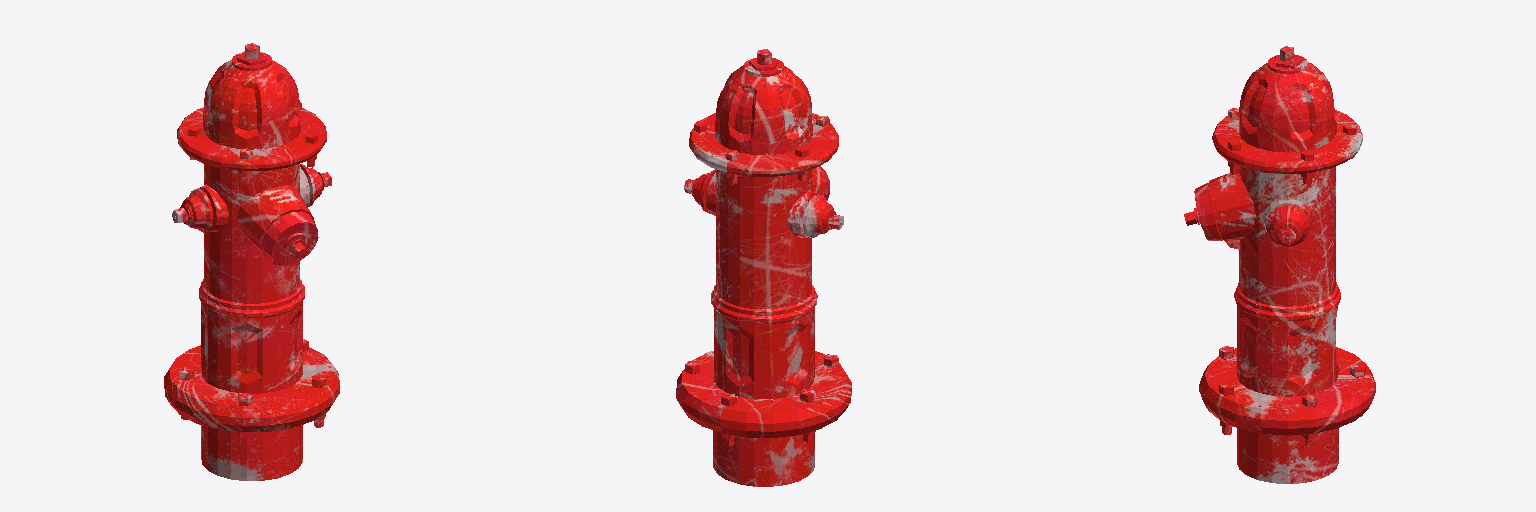
3 views of the same model, side by side, from view 1: azimuth 30°, elevation 25°; view 2: azimuth 150°, elevation 25°; view 3: azimuth 270°, elevation 25° (orthographic).
Visible parts, largest first — view 1: fire_hydrant_no_chain_OBJ; view 2: fire_hydrant_no_chain_OBJ; view 3: fire_hydrant_no_chain_OBJ.
Part boxes in pixels (bbox=[...]): fire_hydrant_no_chain_OBJ: bbox=[164, 43, 339, 480]; fire_hydrant_no_chain_OBJ: bbox=[676, 49, 851, 486]; fire_hydrant_no_chain_OBJ: bbox=[1184, 46, 1375, 483].
Bounding box in the file's own units: 0.2651 × 0.6781 × 0.2857.
1 materials, 1 textured.